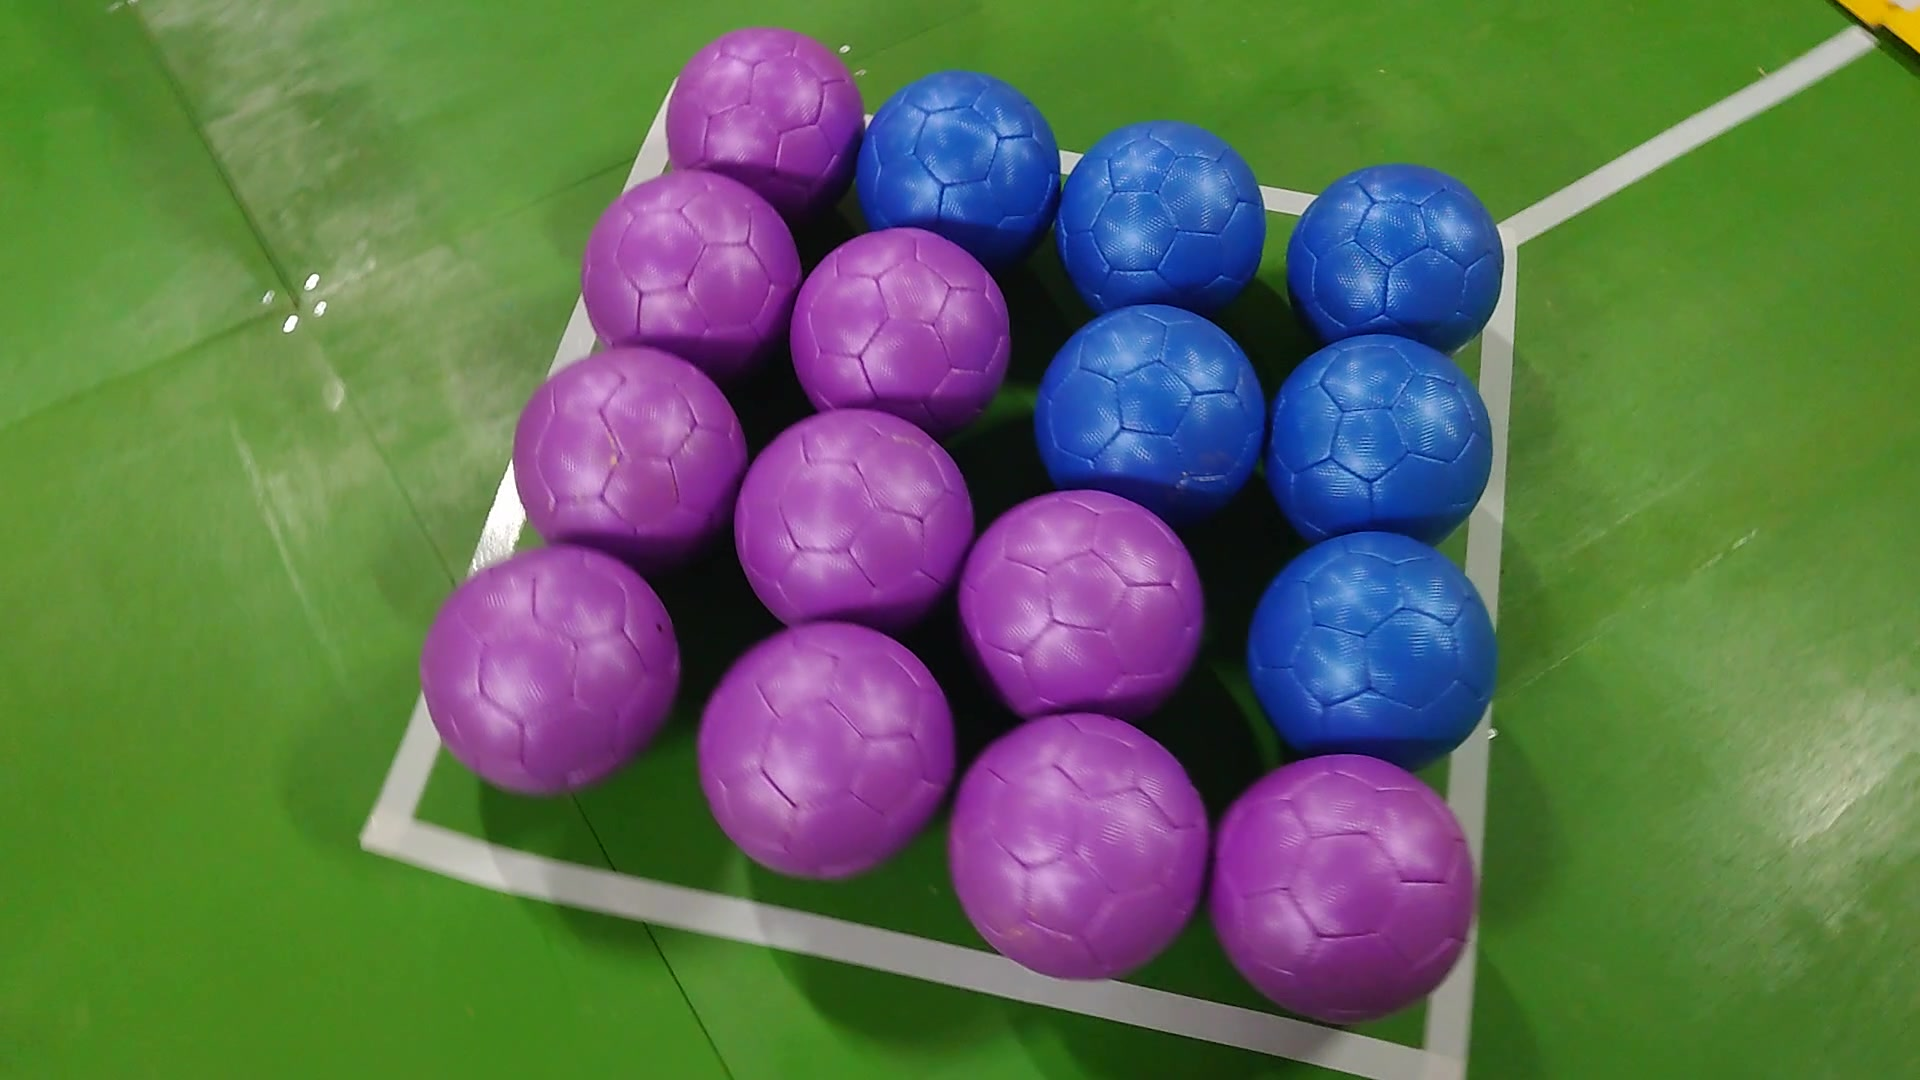blue: (1241, 529, 1499, 757), (1029, 303, 1270, 516), (1267, 336, 1499, 542), (1055, 121, 1267, 303), (1283, 160, 1502, 334), (858, 75, 1058, 248)
purple: (1205, 752, 1482, 1022), (947, 712, 1218, 986), (695, 620, 947, 876), (421, 549, 686, 790), (957, 493, 1205, 721), (732, 409, 969, 624), (790, 225, 1013, 431), (516, 352, 745, 551), (582, 170, 800, 359), (663, 29, 865, 190)
